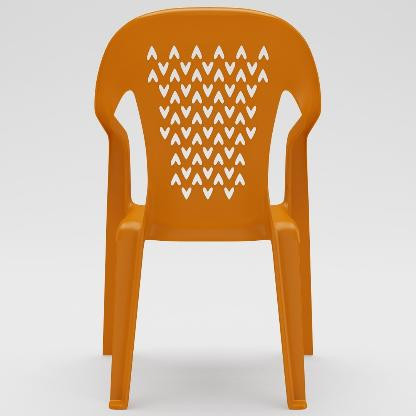chair: (87, 5, 327, 416)
